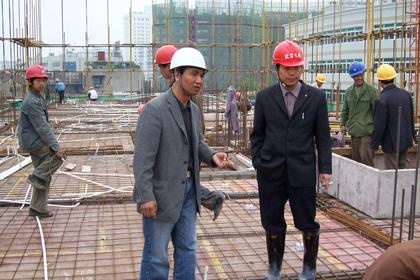blue: (347, 60, 366, 85)
red: (268, 37, 305, 84), (152, 43, 177, 79), (24, 63, 48, 94)
white: (168, 44, 207, 96)
yellow: (376, 62, 396, 86), (314, 71, 325, 86)
